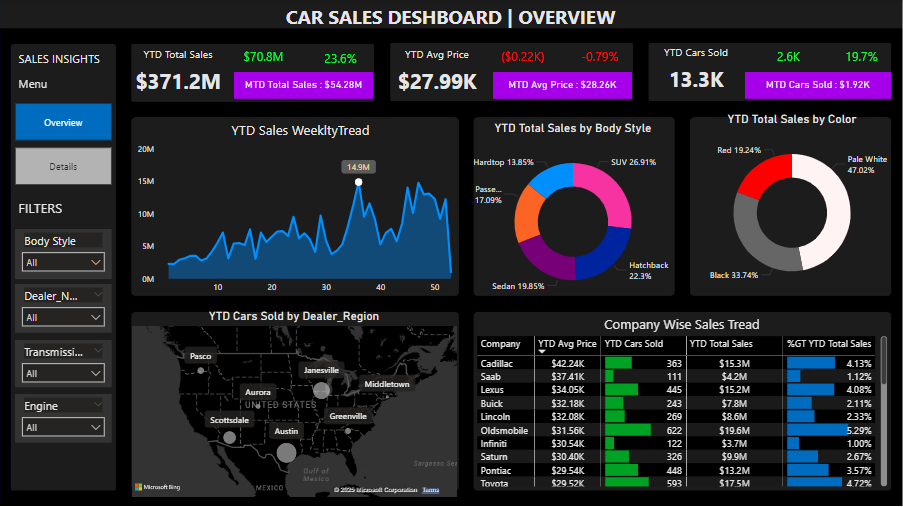

What the dashboard file says about the page in this screenshot:
{"tool":"powerbi","page":{"name":"Overview","canvas":[1280,720],"ordinal":0},"visuals":[{"type":"card","title":"YTD Total Sales","fields":{"Values":["car_data.YTD Total Sales"]},"box":[174.3,66.6,158.7,76.5],"z":0},{"type":"card","title":"YTD Total Sales","fields":{"Values":["car_data.Cars Sales Diff"]},"box":[1067.2,60.9,103.5,41.1],"z":1000},{"type":"card","title":"YTD Total Sales","fields":{"Values":["car_data.YOY Sales Growth"]},"box":[432.3,63.8,103.5,41.1],"z":2000},{"type":"card","fields":{"Values":["car_data.MTD KPI"]},"box":[333.1,102,197,38.3],"z":3000},{"type":"card","title":"YTD Avg Price","fields":{"Values":["car_data.YTD Avg Price"]},"box":[541.4,66.6,158.7,76.5],"z":4000},{"type":"card","title":"YTD Total Sales","fields":{"Values":["car_data.Avg Price Diff"]},"box":[690.2,60.9,103.5,41.1],"z":5000},{"type":"card","title":"YTD Total Sales","fields":{"Values":["car_data.YoY Avg Price Growth"]},"box":[799.4,60.9,103.5,41.1],"z":6000},{"type":"card","fields":{"Values":["car_data.MTD Avg Price KPI"]},"box":[700.2,102,197,38.3],"z":7000},{"type":"card","title":"YTD Cars Sold","fields":{"Values":["car_data.YTD Cars Sold"]},"box":[908.5,63.8,158.7,76.5],"z":8000},{"type":"card","title":"YTD Total Sales","fields":{"Values":["car_data.Sales Difference"]},"box":[323.1,60.9,103.5,41.1],"z":9000},{"type":"card","title":"YTD Total Sales","fields":{"Values":["car_data.YoY Car Sold Growth"]},"box":[1170.7,60.9,103.5,41.1],"z":10000},{"type":"card","fields":{"Values":["car_data.MTD Cars Sold KPI"]},"box":[1057.3,102,206.9,38.3],"z":11000},{"type":"areaChart","title":"YTD Sales WeekltyTread","fields":{"Category":["Calendar Table.Week"],"Y":["Sum(car_data.Price ($))","car_data.Max Point"]},"box":[191.3,171.5,472,253.7],"z":12000},{"type":"donutChart","fields":{"Category":["car_data.Body Style"],"Y":["car_data.YTD Total Sales"]},"box":[663.3,171.5,300.5,266.5],"z":13000},{"type":"donutChart","fields":{"Y":["car_data.YTD Total Sales"],"Category":["car_data.Color"]},"box":[973.7,158.7,300.5,266.5],"z":14000},{"type":"map","fields":{"Category":["car_data.Dealer_Region"],"Size":["car_data.YTD Cars Sold"]},"box":[182.8,438,470.6,272.1],"z":15000},{"type":"tableEx","title":"Company Wise Sales Tread","fields":{"Values":["car_data.Company","car_data.YTD Avg Price","car_data.YTD Cars Sold","car_data.YTD Total Sales1","car_data.YTD Total Sales"]},"box":[671.8,446.5,592.4,248],"z":16000},{"type":"textbox","box":[0,0,1279.8,49.6],"z":18000},{"type":"slicer","fields":{"Values":["car_data.Body Style"]},"box":[22.7,324.6,137.5,70.9],"z":19000},{"type":"slicer","fields":{"Values":["car_data.Dealer_Name"]},"box":[22.7,402.5,137.5,69.4],"z":20000},{"type":"slicer","fields":{"Values":["car_data.Engine"]},"box":[22.7,558.4,137.5,69.4],"z":21000},{"type":"slicer","fields":{"Values":["car_data.Transmission"]},"box":[22.7,481.9,137.5,66.6],"z":22000},{"type":"textbox","box":[22.7,276.4,124.7,48.2],"z":23000},{"type":"textbox","box":[22.7,66.6,137.5,35.4],"z":24000},{"type":"textbox","box":[22.7,102,109.1,38.3],"z":25000},{"type":"pageNavigator","box":[22.7,146,137.5,116.2],"z":25001}]}

Visuals, with their boxes in screenshot pixels (x1, y1, x2, y2), scaled from the page's 1280x720 canvas onto the 903x507 screenshot:
"YTD Total Sales" card: <region>123, 47, 235, 101</region>
"YTD Total Sales" card: <region>753, 43, 826, 72</region>
"YTD Total Sales" card: <region>305, 45, 378, 74</region>
card - car_data.MTD KPI: <region>235, 72, 374, 99</region>
"YTD Avg Price" card: <region>382, 47, 494, 101</region>
"YTD Total Sales" card: <region>487, 43, 560, 72</region>
"YTD Total Sales" card: <region>564, 43, 637, 72</region>
card - car_data.MTD Avg Price KPI: <region>494, 72, 633, 99</region>
"YTD Cars Sold" card: <region>641, 45, 753, 99</region>
"YTD Total Sales" card: <region>228, 43, 301, 72</region>
"YTD Total Sales" card: <region>826, 43, 899, 72</region>
card - car_data.MTD Cars Sold KPI: <region>746, 72, 892, 99</region>
"YTD Sales WeekltyTread" areaChart: <region>135, 121, 468, 299</region>
donutChart - car_data.Body Style x car_data.YTD Total Sales: <region>468, 121, 680, 308</region>
donutChart - car_data.YTD Total Sales x car_data.Color: <region>687, 112, 899, 299</region>
map - car_data.Dealer_Region x car_data.YTD Cars Sold: <region>129, 308, 461, 500</region>
"Company Wise Sales Tread" tableEx: <region>474, 314, 892, 489</region>
textbox: <region>0, 0, 902, 35</region>
slicer - car_data.Body Style: <region>16, 229, 113, 278</region>
slicer - car_data.Dealer_Name: <region>16, 283, 113, 332</region>
slicer - car_data.Engine: <region>16, 393, 113, 442</region>
slicer - car_data.Transmission: <region>16, 339, 113, 386</region>
textbox: <region>16, 195, 104, 229</region>
textbox: <region>16, 47, 113, 72</region>
textbox: <region>16, 72, 93, 99</region>
pageNavigator: <region>16, 103, 113, 185</region>
